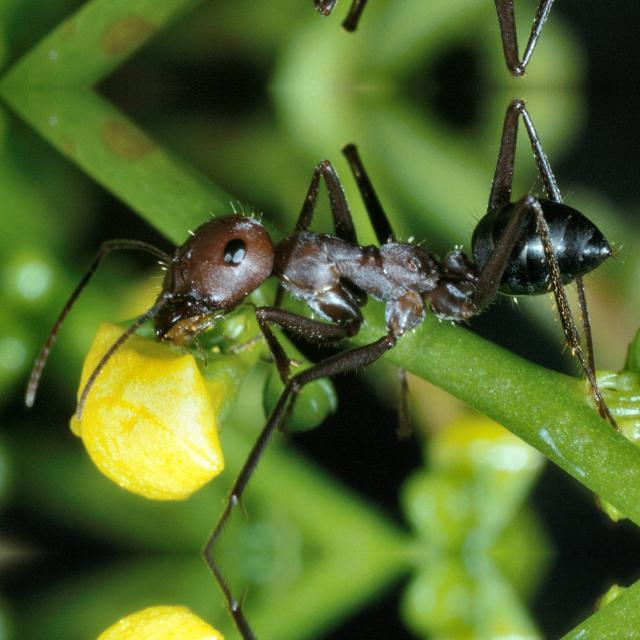Cataglyphis: (113, 153, 639, 397)
